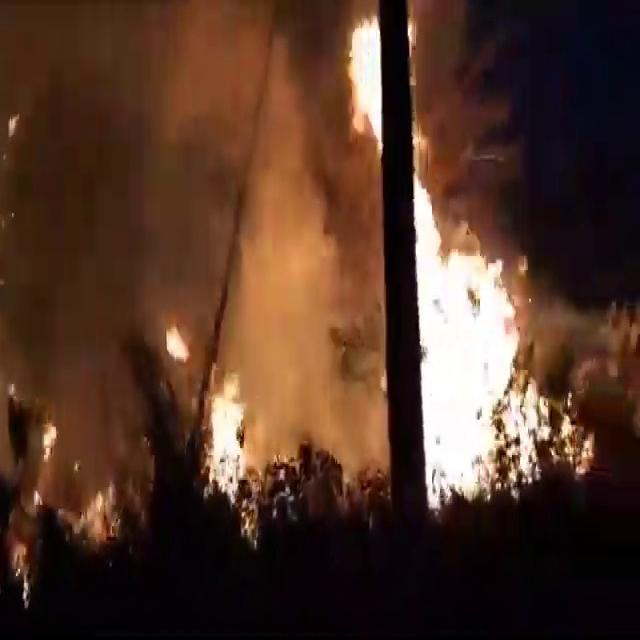Fire: (420, 148, 548, 498), (203, 386, 251, 514), (348, 16, 381, 153), (163, 318, 191, 363), (42, 418, 59, 458)
Smoke: (40, 0, 389, 487)
